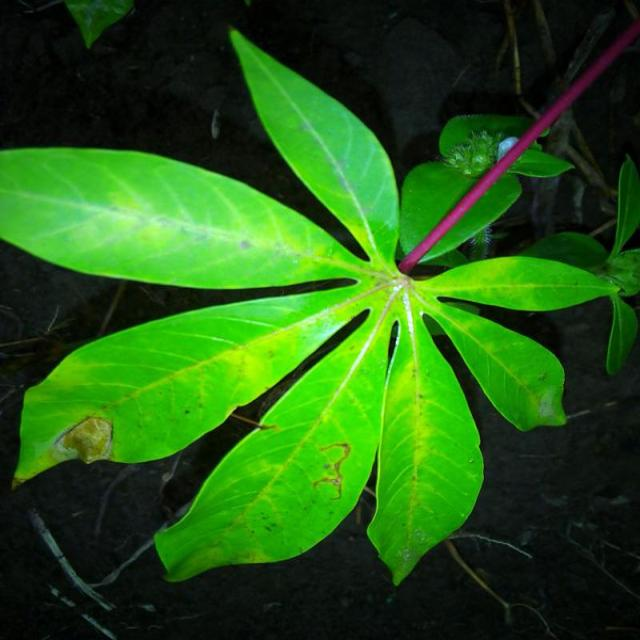cassava leaf: (2, 22, 629, 588)
